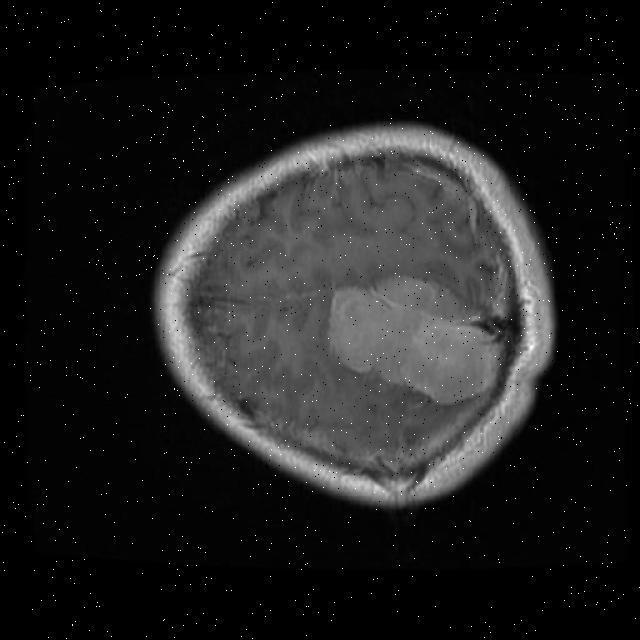Meningioma: (329, 277, 503, 404)
